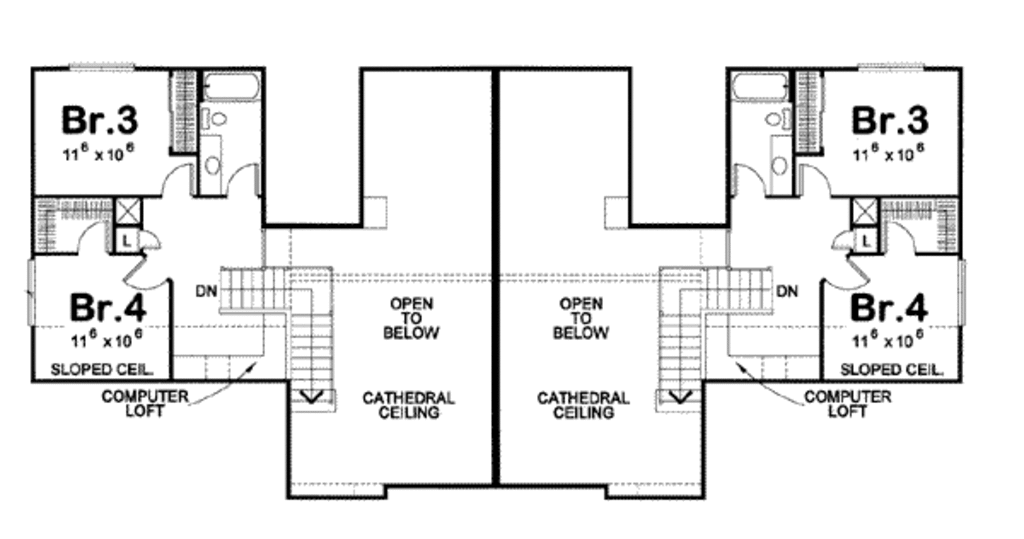door: (821, 253, 870, 297), (74, 208, 112, 258), (119, 255, 168, 292), (796, 148, 831, 199), (220, 151, 255, 199), (730, 160, 766, 202), (158, 160, 191, 200), (882, 217, 916, 255), (139, 227, 172, 249)
large_sink: (195, 99, 240, 135), (763, 104, 793, 131)
small_sink: (191, 133, 220, 198), (773, 134, 793, 195)
stairs: (657, 247, 773, 439), (209, 257, 341, 418)
tub: (202, 66, 257, 98), (734, 72, 794, 97)
window: (20, 259, 44, 328), (63, 55, 144, 75), (850, 59, 935, 78), (953, 263, 972, 326)
